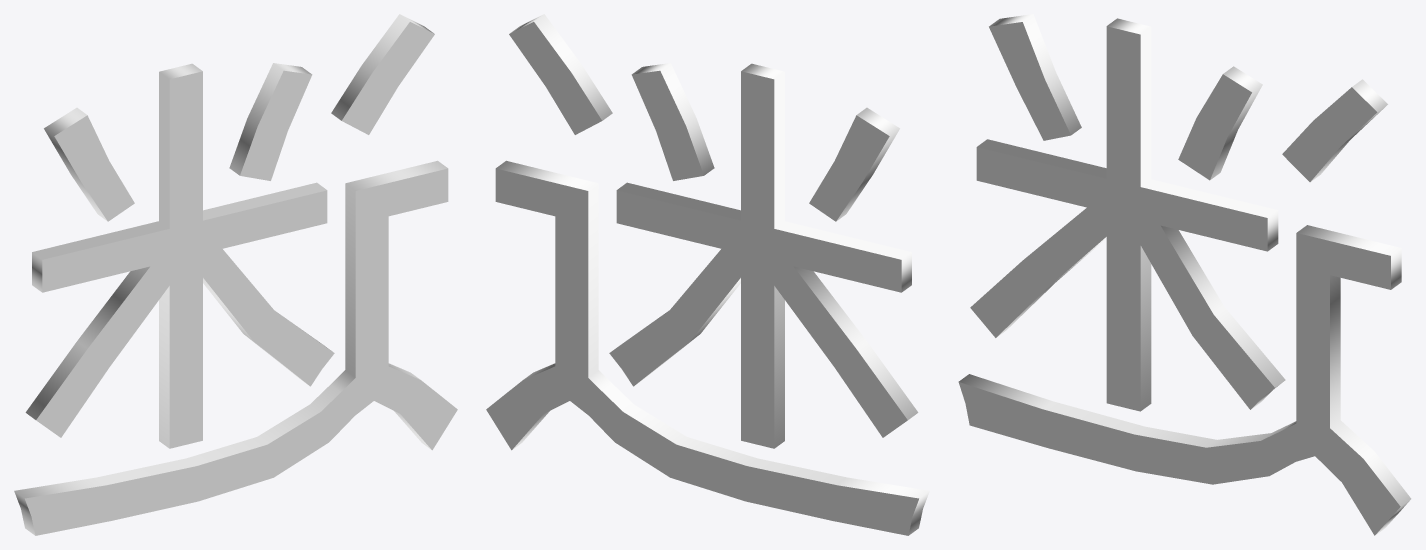
The model's file is Mei.obj.
The picture shows the model from 3 angles, left to right: view 1: azimuth 30°, elevation 25°; view 2: azimuth 150°, elevation 25°; view 3: azimuth 330°, elevation 25°; orthographic projection. The views are drawn at different scales.
Parts seen in each view (by area): view 1: テキスト; view 2: テキスト; view 3: テキスト.
Part boxes in pixels (left/top/right/bottom): テキスト: left=14, top=14, right=457, bottom=535; テキスト: left=486, top=14, right=929, bottom=535; テキスト: left=958, top=14, right=1411, bottom=535.
Size of the model in its own units: 0.95 by 0.912 by 0.04.
1 material, 1 textured.
